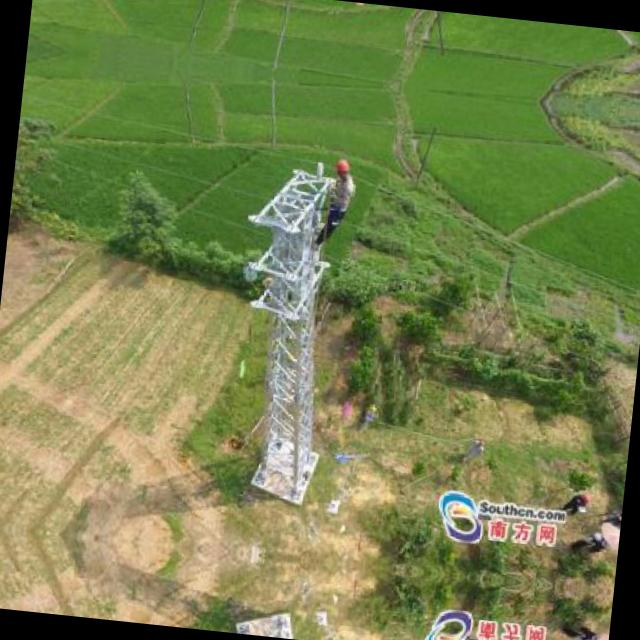helmet: (331, 152, 356, 183), (348, 1, 373, 13)
